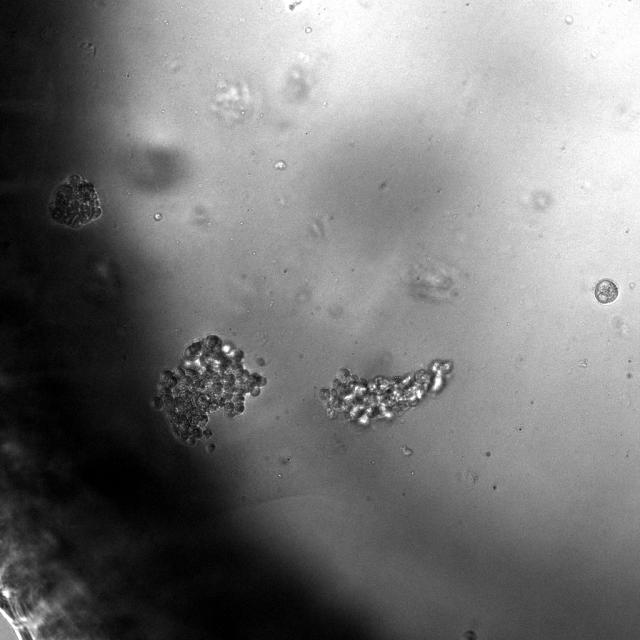organoid: (152, 334, 266, 452), (319, 359, 452, 431), (48, 175, 102, 228), (594, 279, 618, 304)
